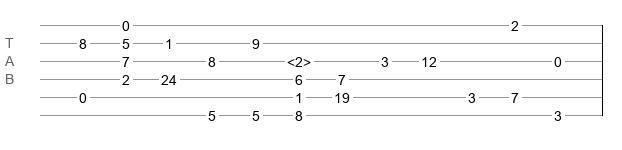0: (79, 90, 87, 100), (122, 18, 130, 28), (554, 54, 562, 64)
1: (165, 36, 173, 46), (295, 90, 303, 100)
12: (421, 54, 437, 64)
19: (334, 90, 350, 100)
2: (122, 72, 130, 82), (511, 18, 519, 28)
24: (161, 72, 177, 82)
3: (381, 54, 389, 64), (468, 90, 476, 100), (554, 108, 562, 118)
5: (122, 36, 130, 46), (208, 108, 216, 118), (252, 108, 260, 118)
6: (295, 72, 303, 82)
7: (122, 54, 130, 64), (338, 72, 346, 82), (511, 90, 519, 100)
8: (79, 36, 87, 46), (208, 54, 216, 64), (295, 108, 303, 118)
9: (252, 36, 260, 46)
harmonic: (287, 54, 311, 64)
